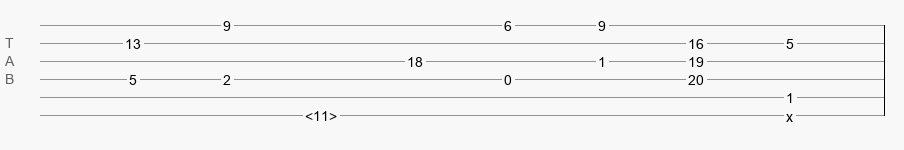0: (504, 72, 512, 82)
1: (598, 54, 606, 64), (786, 90, 794, 100)
13: (125, 36, 141, 46)
16: (688, 36, 704, 46)
18: (407, 54, 423, 64)
19: (688, 54, 704, 64)
2: (223, 72, 231, 82)
20: (688, 72, 704, 82)
5: (129, 72, 137, 82), (786, 36, 794, 46)
6: (504, 18, 512, 28)
9: (223, 18, 231, 28), (598, 18, 606, 28)
harmonic: (305, 108, 337, 118)
x: (786, 109, 793, 117)
